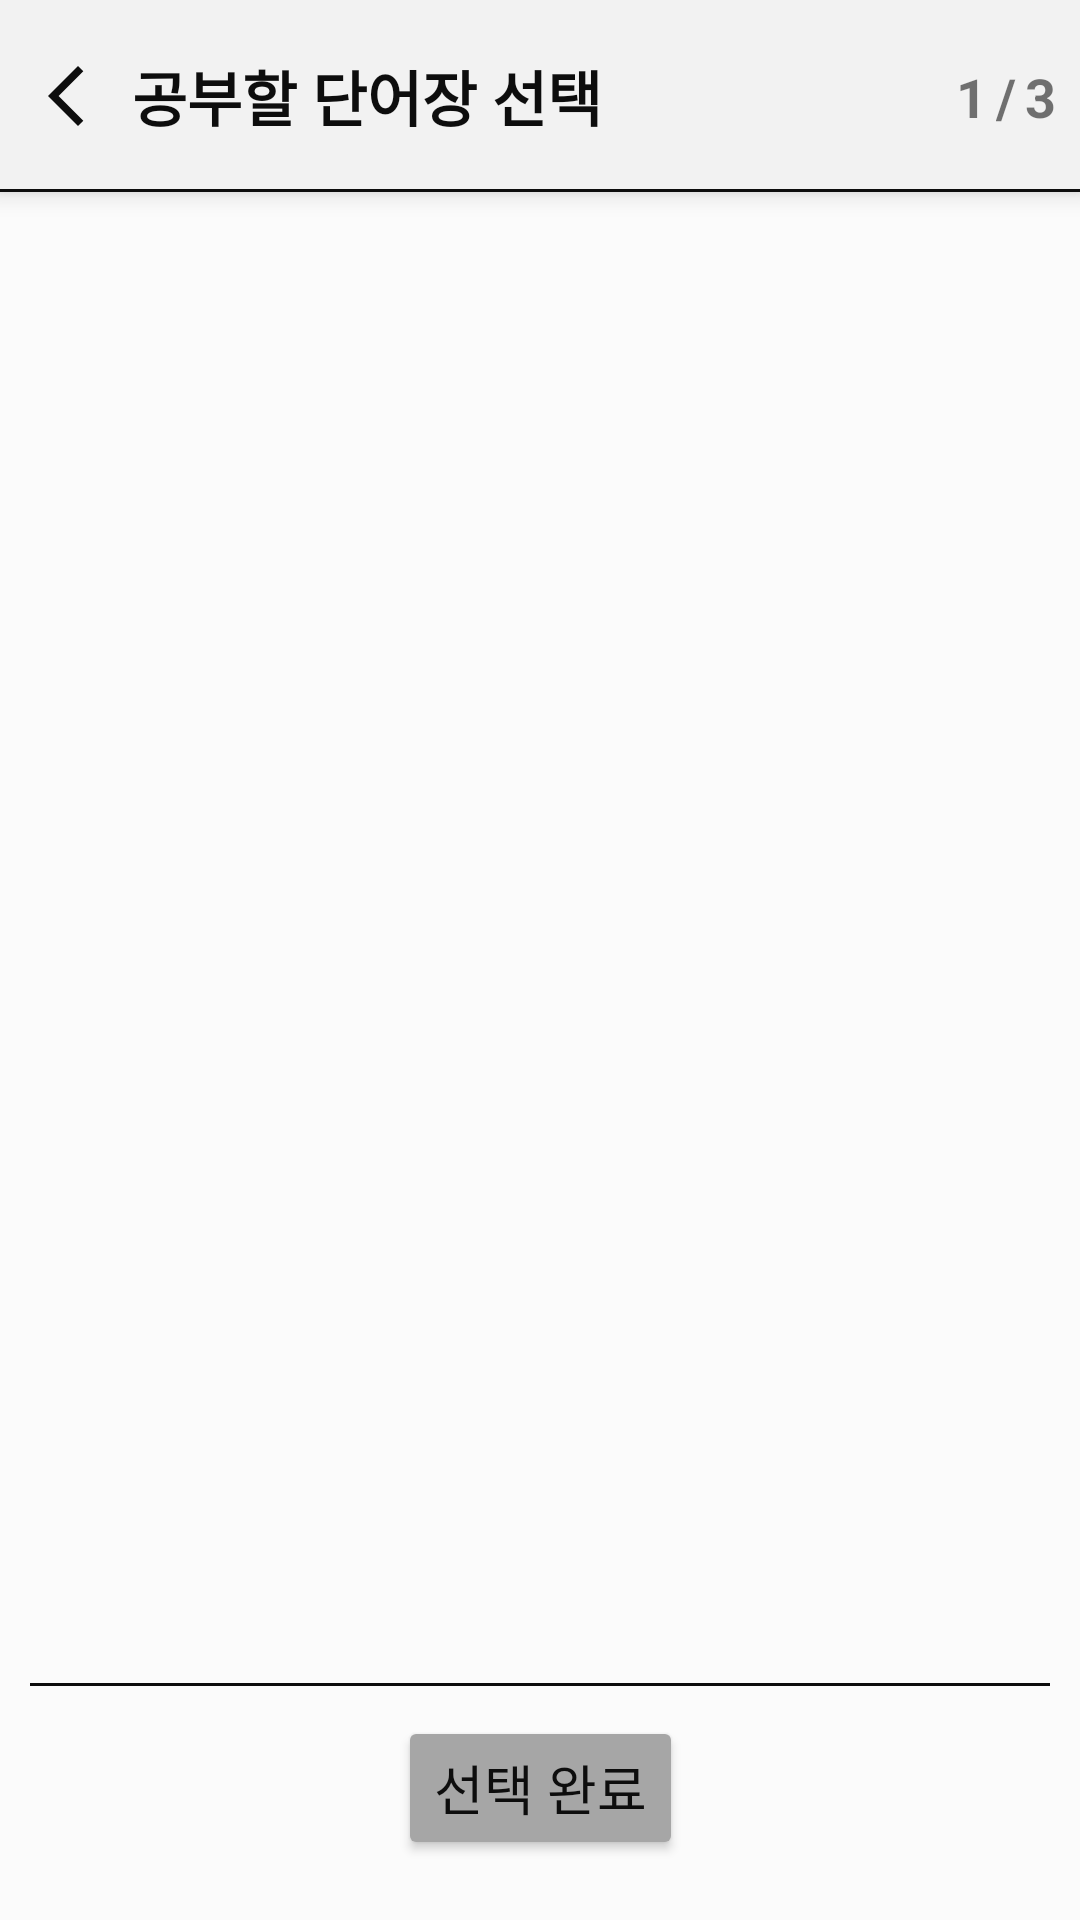

Locate icon controls on the screen. Image size 1080px x 1920px, boxes as box(x1, y1, x2, y2).
arrow back: box(48, 66, 83, 126)
